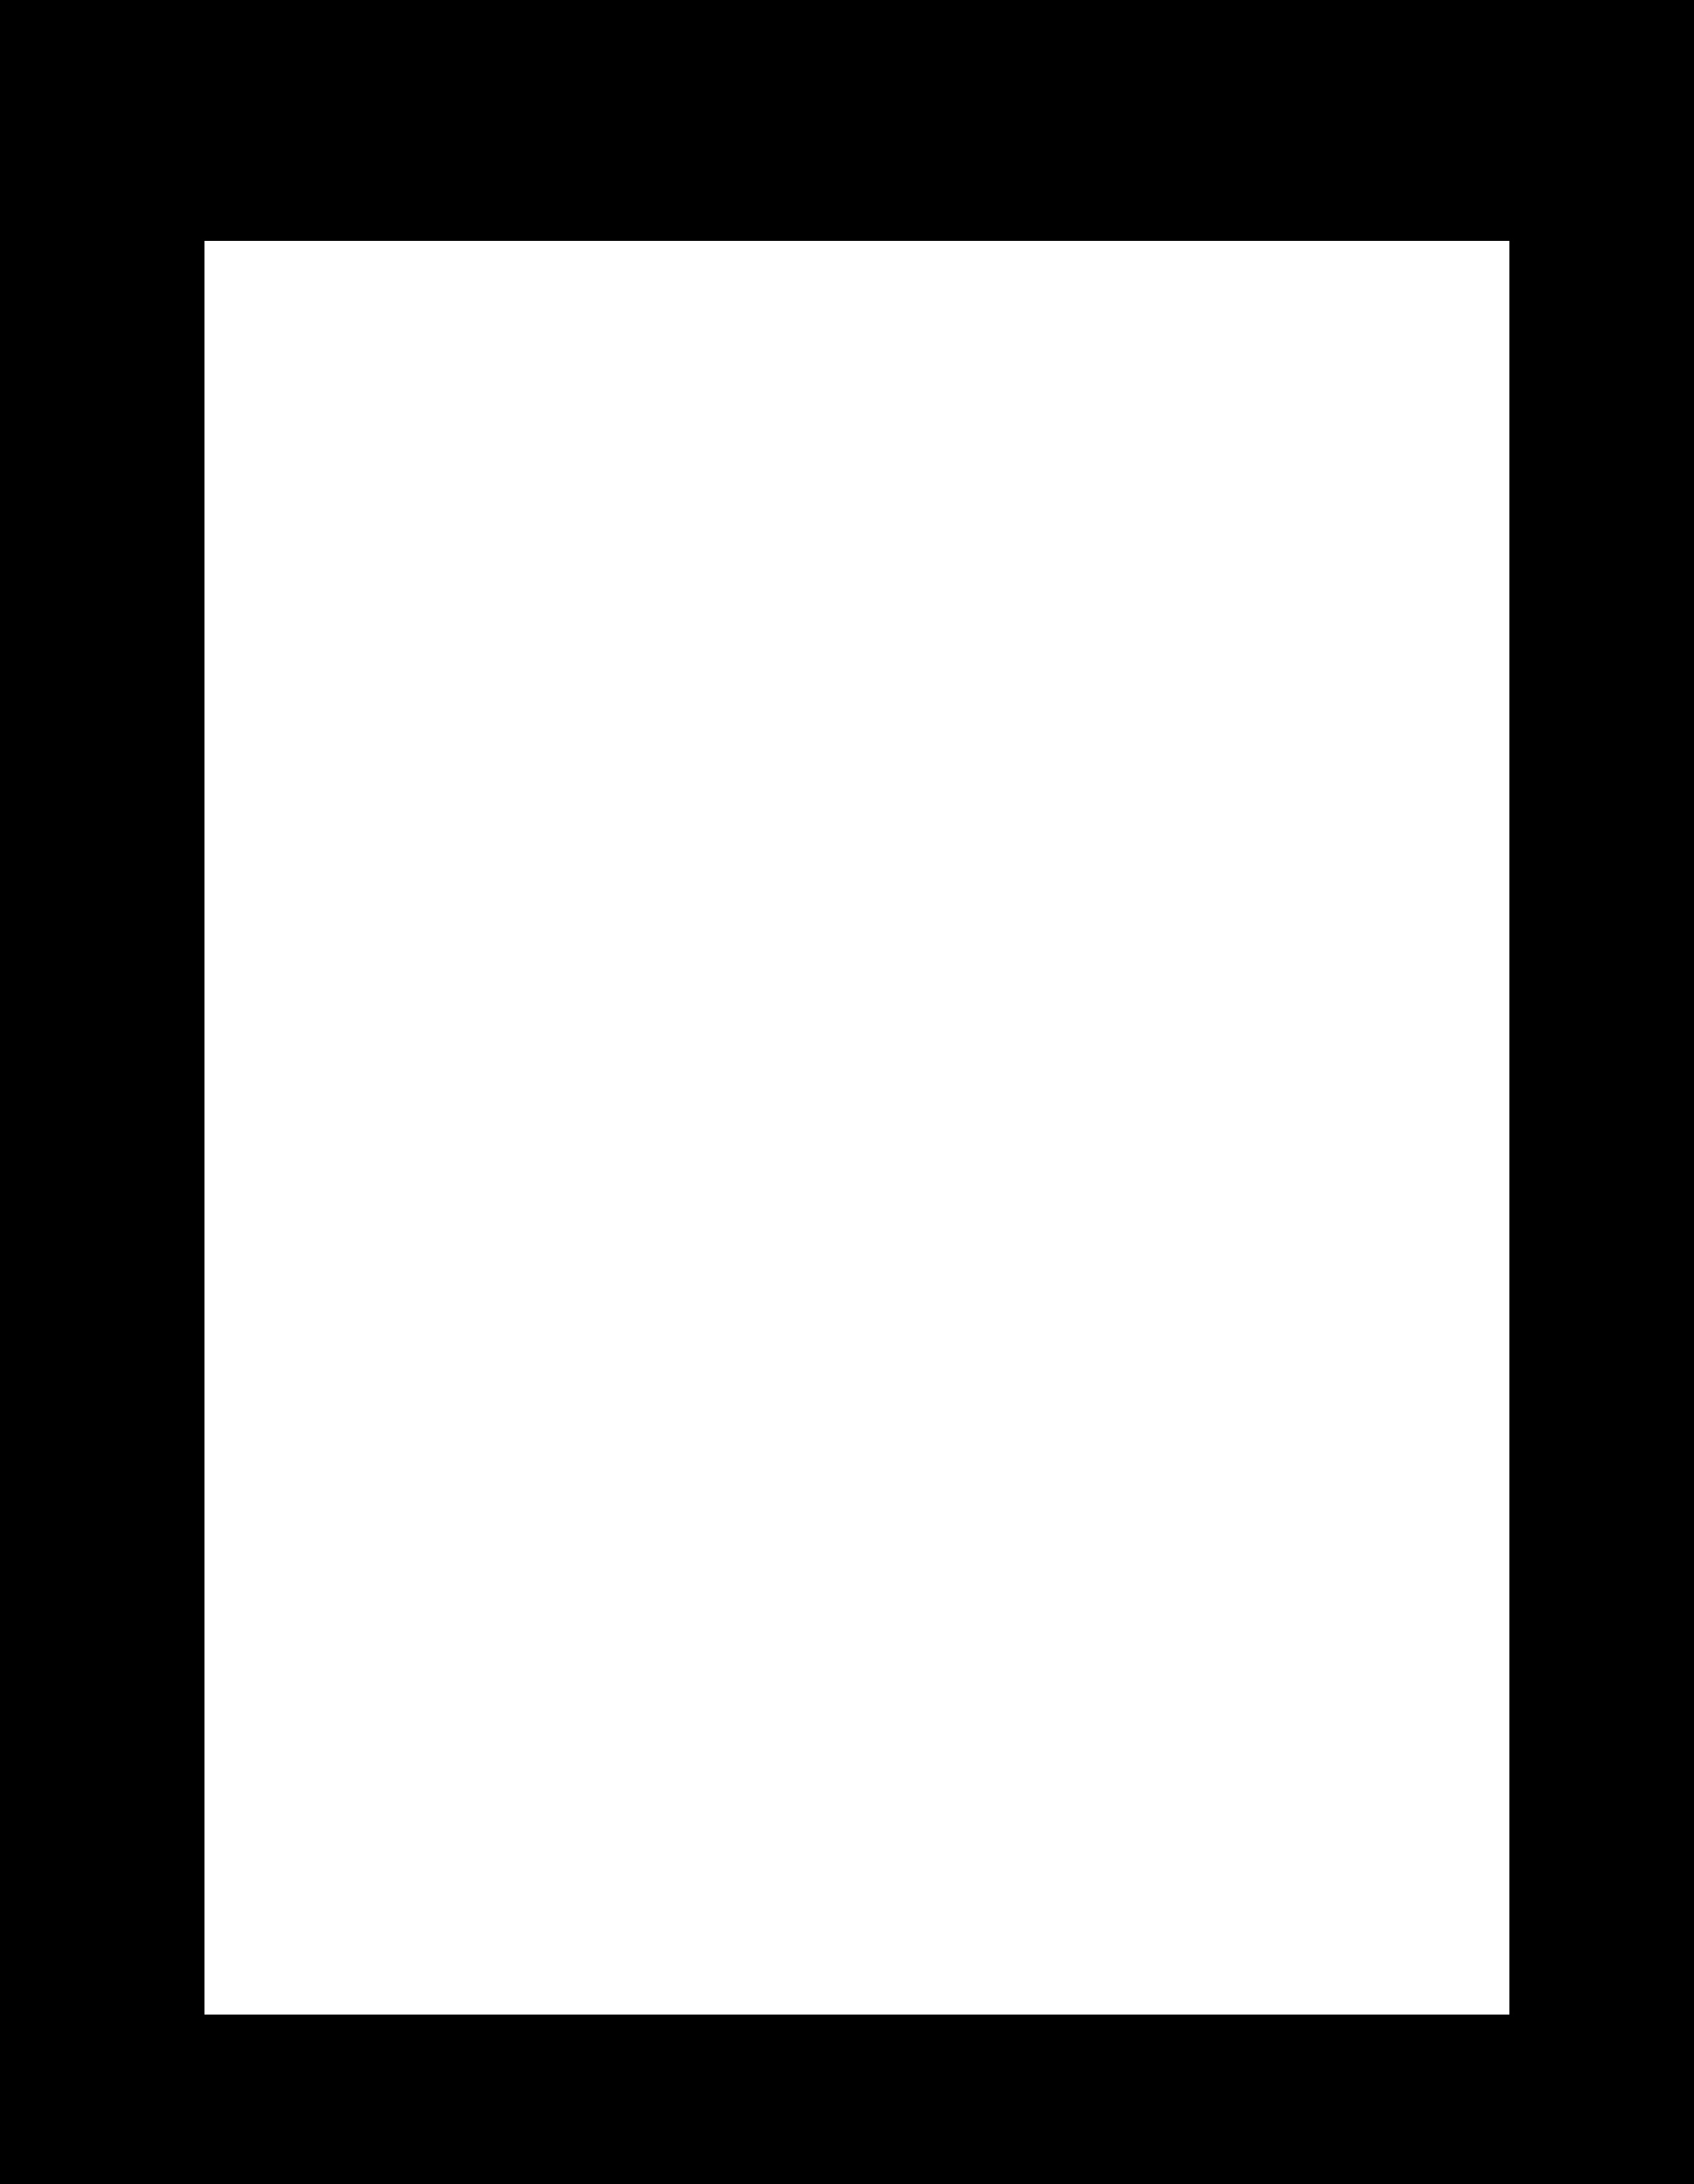table: (204, 241, 1508, 2014)
